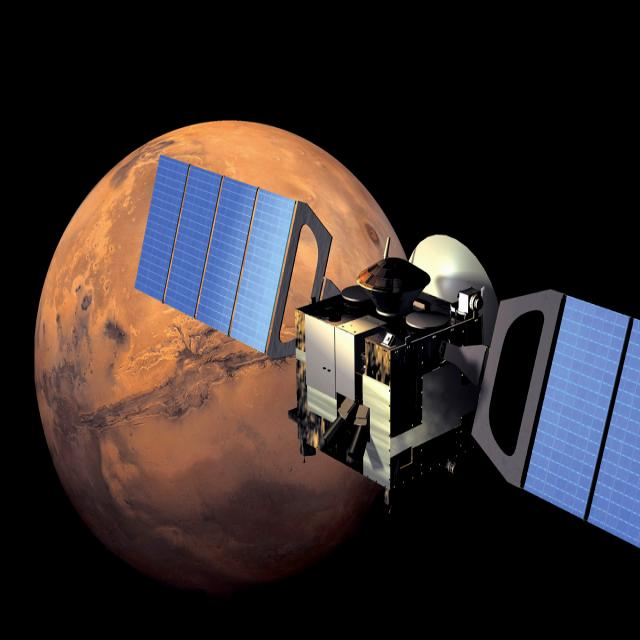satellite: (106, 153, 640, 560)
